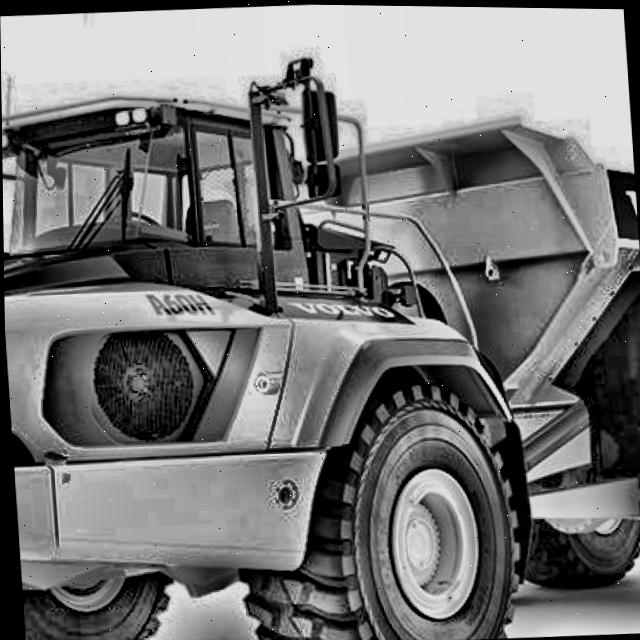dump_truck: (1, 48, 640, 640)
